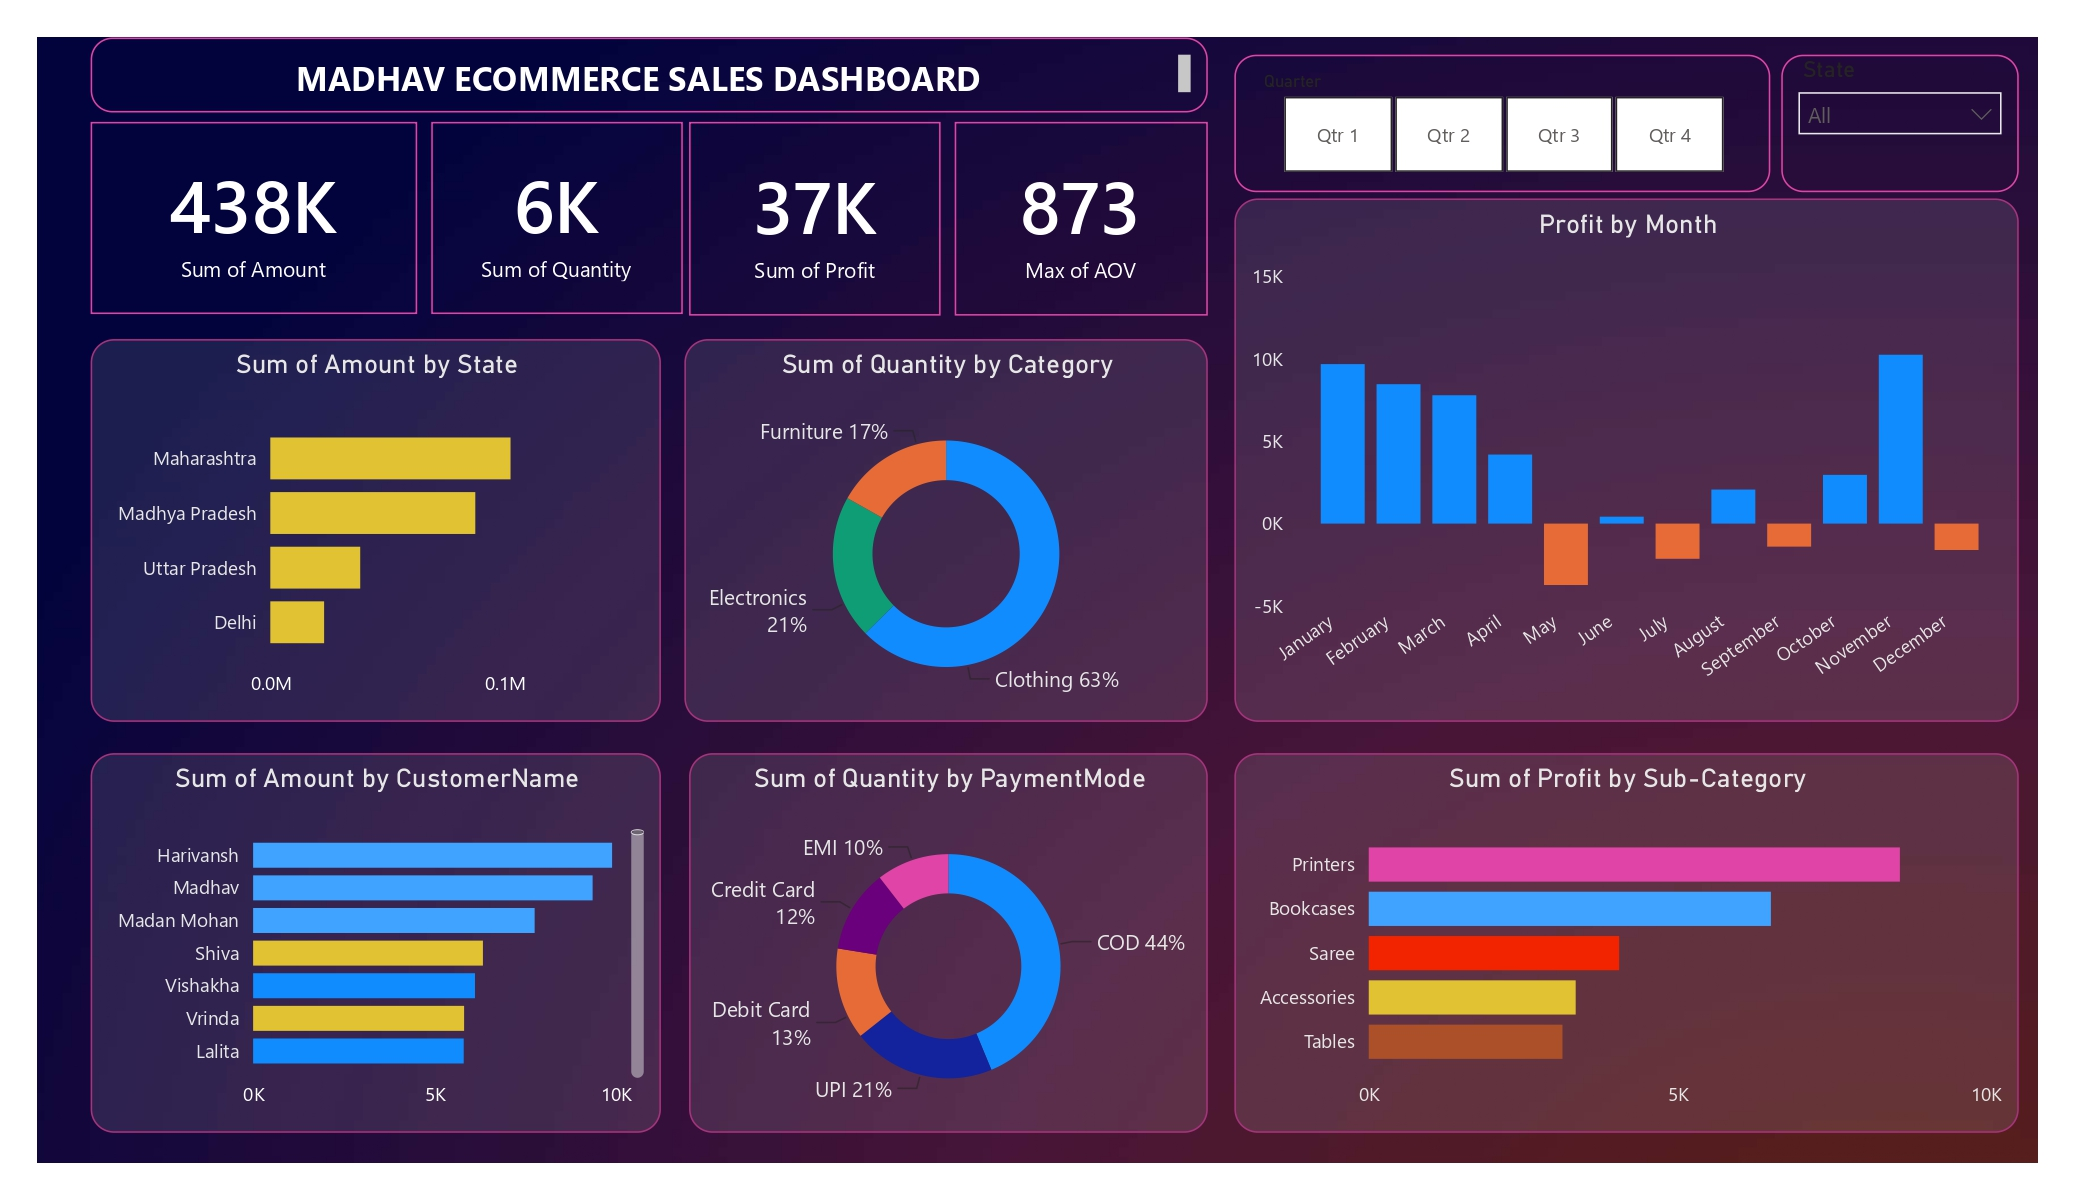

Layout of this report page (visuals, bound fields, positions):
{"tool":"powerbi","page":{"name":"Page 1","canvas":[1280,720],"ordinal":0},"visuals":[{"type":"textbox","box":[34.3,0,714.9,48],"z":0},{"type":"columnChart","title":" Profit by Month","fields":{"Category":["Orders.Order Date.Variation.Date Hierarchy.Month"],"Y":["Sum(Details.Profit)"]},"box":[765.7,102.9,502.2,334.8],"z":1000},{"type":"barChart","fields":{"Category":["Details.Sub-Category"],"Y":["Sum(Details.Profit)"]},"box":[765.7,458.3,502.2,242.9],"z":2000},{"type":"donutChart","fields":{"Category":["Details.Category"],"Y":["Sum(Details.Quantity)"]},"box":[414.4,193.5,334.8,244.3],"z":3000},{"type":"donutChart","fields":{"Y":["Sum(Details.Quantity)"],"Category":["Details.PaymentMode"]},"box":[417.2,458.3,332.1,242.9],"z":4000},{"type":"cardVisual","fields":{"Data":["Sum(Details.Amount)"]},"box":[34.3,53.5,208.6,123.5],"z":5000},{"type":"cardVisual","fields":{"Data":["Sum(Details.Quantity)"]},"box":[252.5,53.5,160.5,123.5],"z":6000},{"type":"cardVisual","fields":{"Data":["Sum(Details.Profit)"]},"box":[417.2,53.5,161,124],"z":7000},{"type":"cardVisual","fields":{"Data":["Max(Details.AOV)"]},"box":[587.3,53.5,161.9,124.9],"z":8000},{"type":"barChart","fields":{"Category":["Orders.State"],"Y":["Sum(Details.Amount)"]},"box":[34.3,193.5,365,244.3],"z":9000},{"type":"barChart","fields":{"Category":["Orders.CustomerName"],"Y":["Sum(Details.Amount)"]},"box":[34.3,458.3,365,242.9],"z":10000},{"type":"slicer","fields":{"Values":["Orders.Order Date.Variation.Date Hierarchy.Quarter"]},"box":[765.7,11,343.1,87.8],"z":11000},{"type":"slicer","fields":{"Values":["Orders.State"]},"box":[1115.6,11,152.3,87.8],"z":12000}]}

Visuals, with their boxes on the page's 1280x720 design canvas (x1, y1, x2, y2). These are canvas units, not pixel positions in the 2075x1200 screenshot, which may show the page scaled, cropped or inside an application window:
textbox: box=[34, 0, 749, 48]
" Profit by Month" columnChart: box=[766, 103, 1268, 438]
barChart - Details.Sub-Category x Sum(Details.Profit): box=[766, 458, 1268, 701]
donutChart - Details.Category x Sum(Details.Quantity): box=[414, 194, 749, 438]
donutChart - Sum(Details.Quantity) x Details.PaymentMode: box=[417, 458, 749, 701]
cardVisual - Sum(Details.Amount): box=[34, 54, 243, 177]
cardVisual - Sum(Details.Quantity): box=[252, 54, 413, 177]
cardVisual - Sum(Details.Profit): box=[417, 54, 578, 178]
cardVisual - Max(Details.AOV): box=[587, 54, 749, 178]
barChart - Orders.State x Sum(Details.Amount): box=[34, 194, 399, 438]
barChart - Orders.CustomerName x Sum(Details.Amount): box=[34, 458, 399, 701]
slicer - Orders.Order Date.Variation.Date Hierarchy.Quarter: box=[766, 11, 1109, 99]
slicer - Orders.State: box=[1116, 11, 1268, 99]
